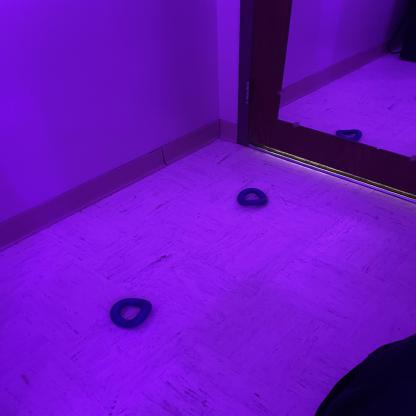ring: (109, 298, 152, 328), (236, 188, 268, 206)
